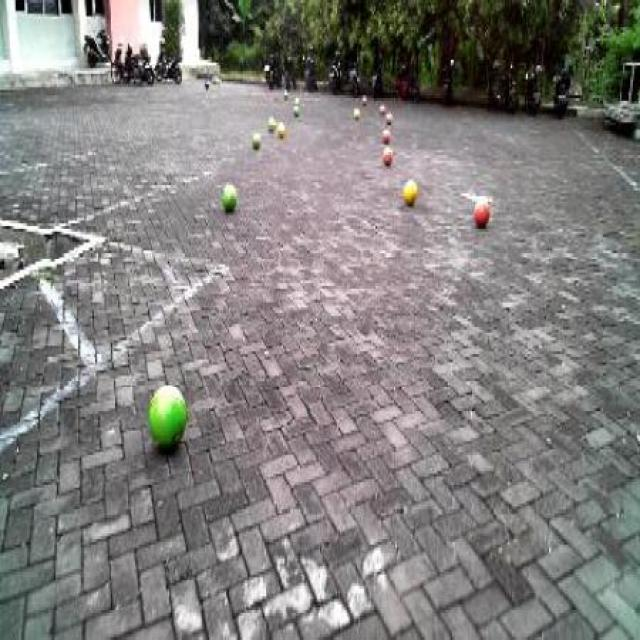buoy: (142, 377, 192, 465), (469, 188, 491, 234), (398, 170, 420, 208), (218, 177, 240, 213)
